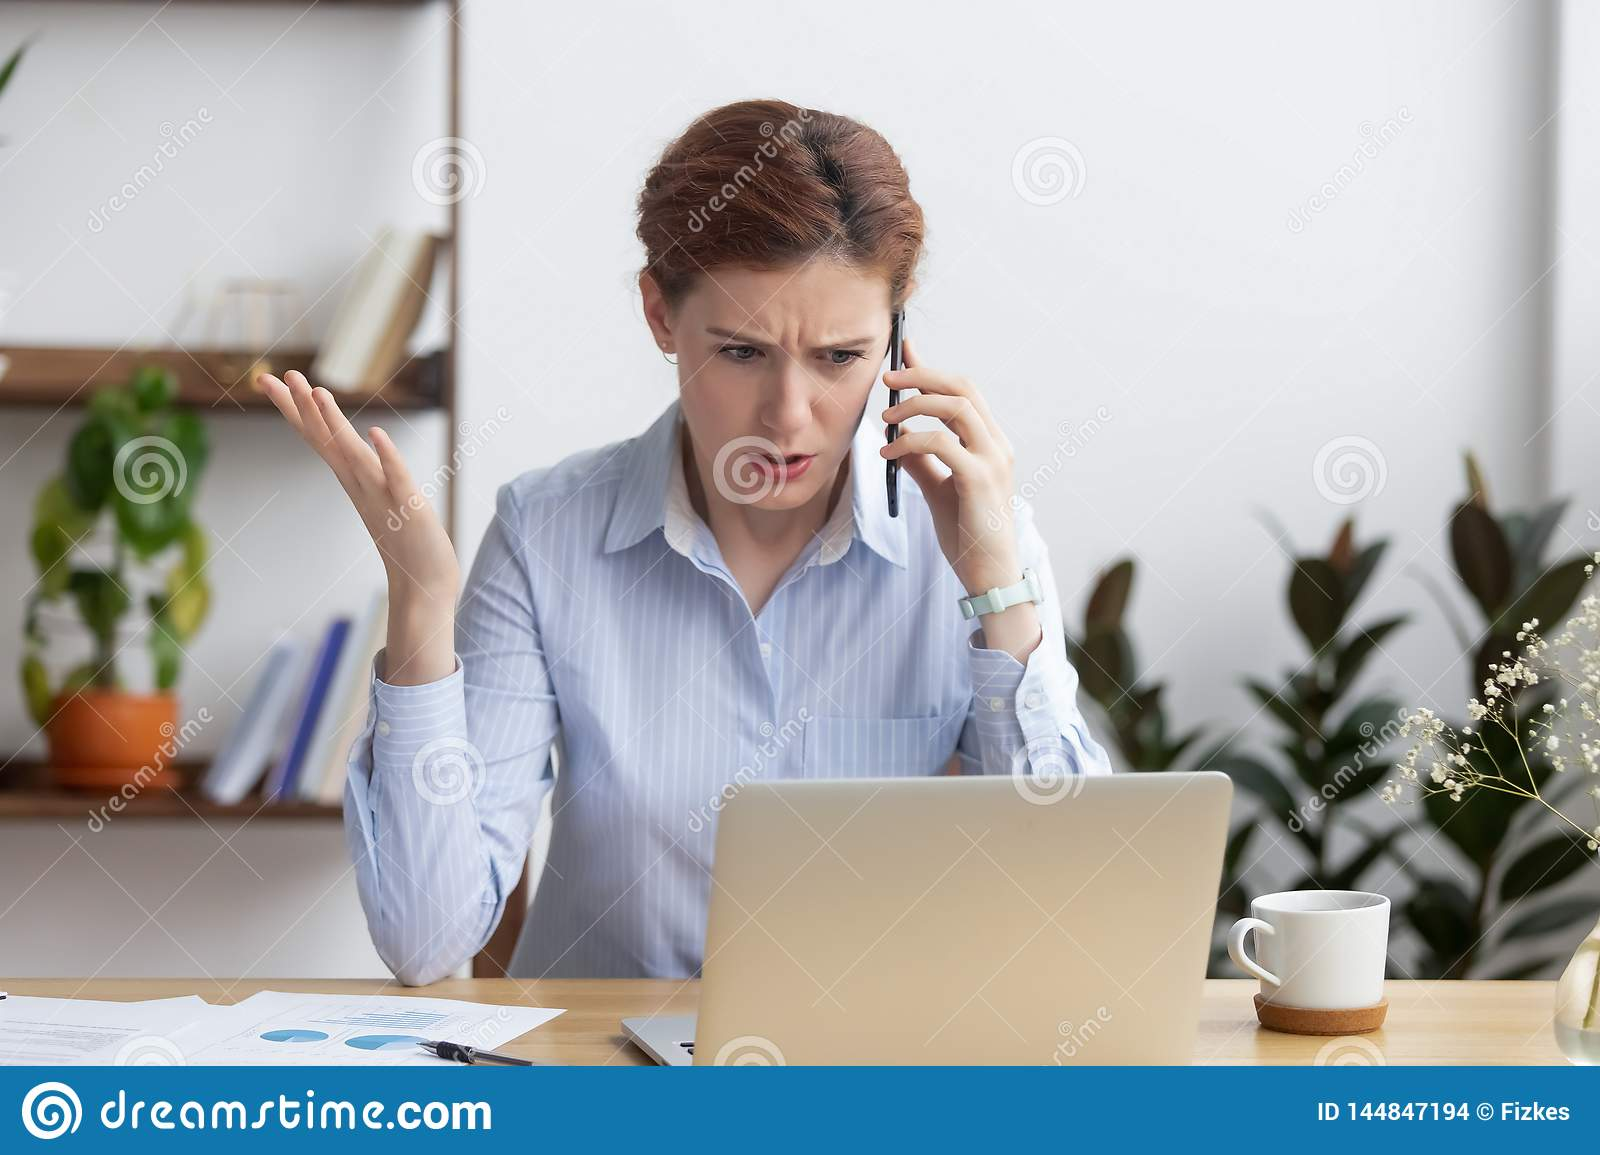phone: (877, 308, 906, 522)
talk: (694, 306, 1042, 641)
